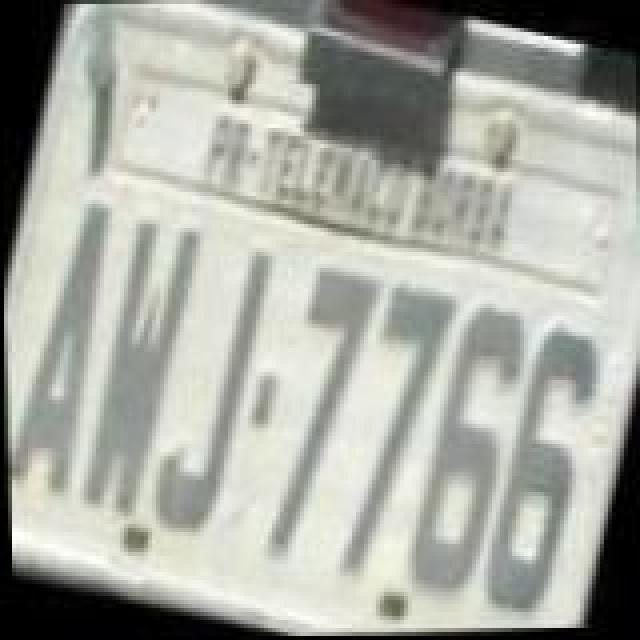6: (392, 294, 544, 602), (468, 316, 612, 624)
7: (318, 280, 466, 588), (246, 258, 390, 566)
A: (2, 192, 134, 504)
J: (136, 234, 284, 550)
W: (68, 216, 212, 524)
